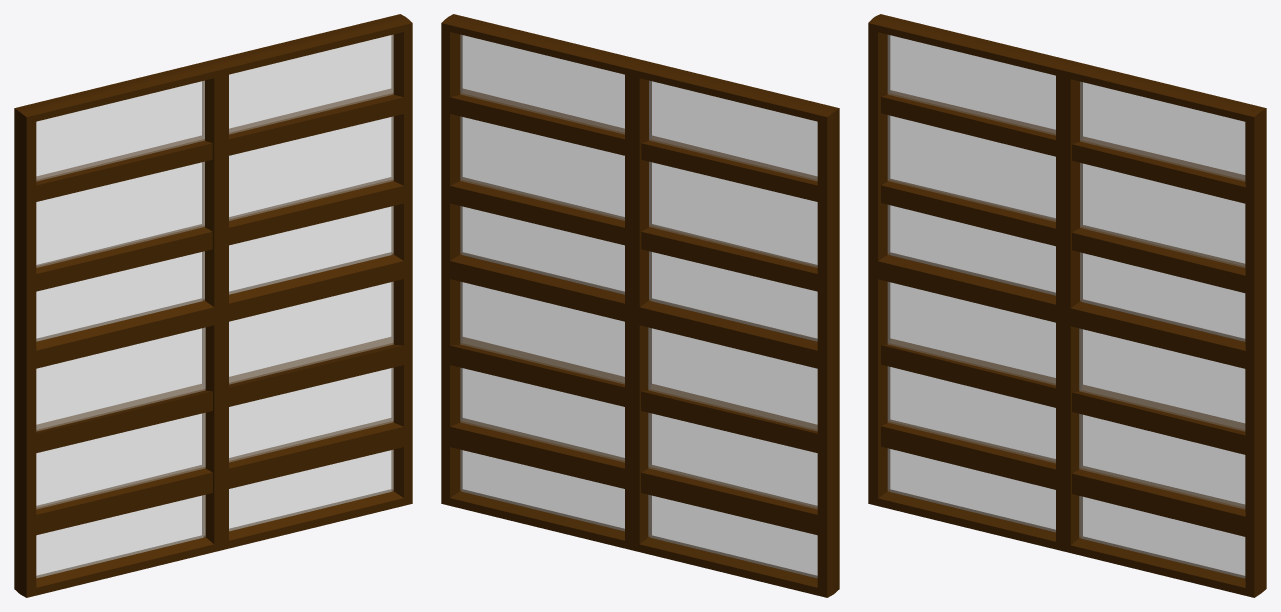
The model's file is Window2.fbx.
3 renders of one model, left to right at view 1: azimuth 30°, elevation 25°; view 2: azimuth 150°, elevation 25°; view 3: azimuth 330°, elevation 25°, orthographic.
Parts seen in each view (by area): view 1: Window; view 2: Window; view 3: Window.
Boxes of the visible parts, x1,y1,x2,y2 form: Window: (14, 14, 412, 597); Window: (441, 14, 839, 597); Window: (868, 14, 1266, 597).
Bounding box in the file's own units: 0.7282 × 0.867 × 0.0403.
